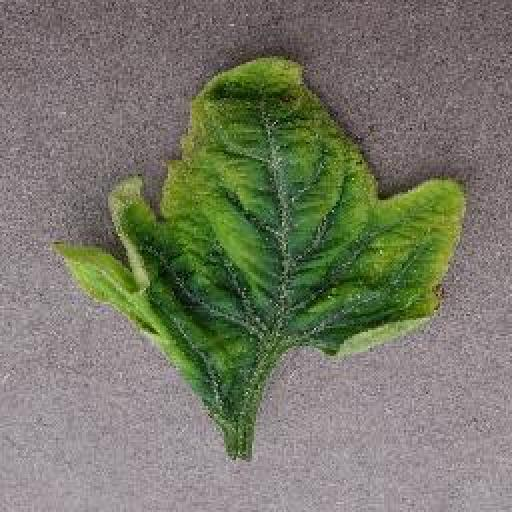Yellow Leaf Curl Virus: (54, 51, 467, 364)
